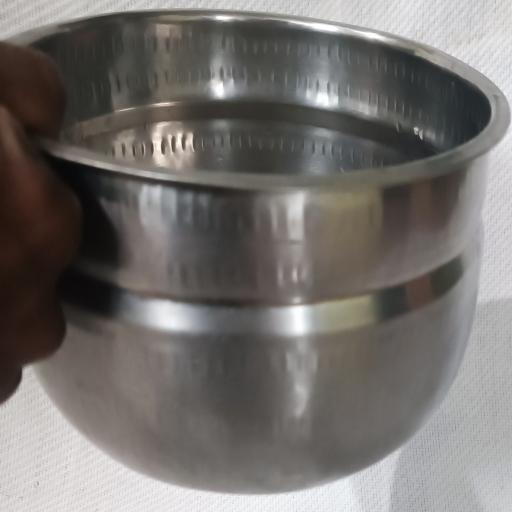vessel: (14, 11, 509, 492)
